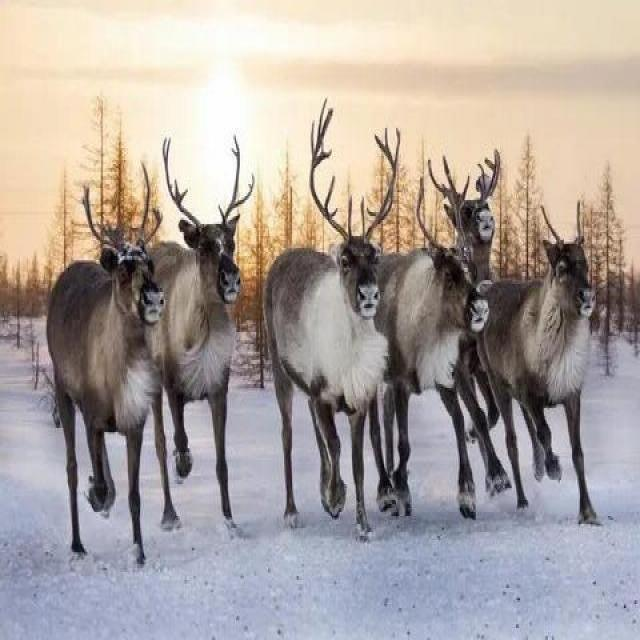deer: (266, 162, 486, 490), (228, 153, 392, 503), (45, 179, 212, 508), (412, 149, 553, 440), (137, 186, 268, 454), (517, 242, 592, 382)
